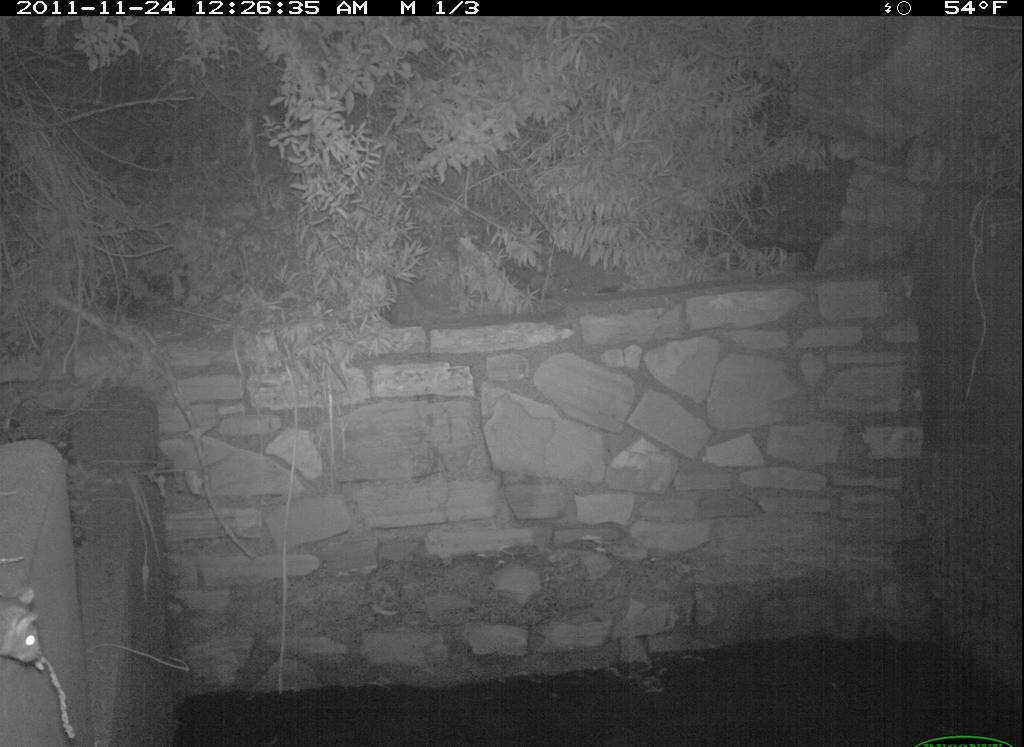rodent: (3, 579, 53, 675)
